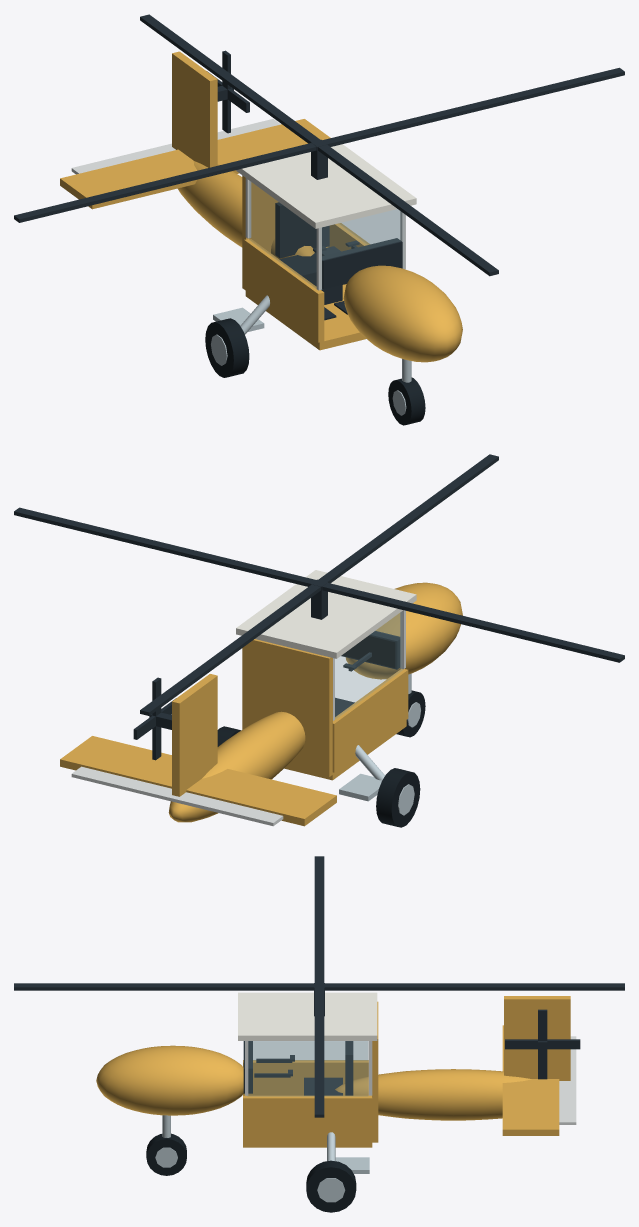
3 renders of one model, top to bottom at view 1: azimuth 30°, elevation 25°; view 2: azimuth 150°, elevation 25°; view 3: azimuth 270°, elevation 25°, orthographic. The views are drawn at different scales.
Visible parts, largest first — view 1: aircraft-blade (×2), aircraft-nose, aircraft-roof, aircraft-stabilizer, helicopter, aircraft-window (×2), aircraft-side (×2), aircraft-fin, aircraft-tail, aircraft-windshield, aircraft-panel, aircraft-bulkhead (+4 smaller); view 2: aircraft-blade (×3), aircraft-bulkhead, aircraft-stabilizer, aircraft-roof, helicopter, aircraft-tail, aircraft-fin, aircraft-nose, aircraft-side, aircraft-window, aircraft-elevator-hinge, aircraft-floor (+1 smaller); view 3: aircraft-blade (×4), aircraft-nose, aircraft-side (×2), aircraft-window (×2), aircraft-tail, aircraft-roof, helicopter, aircraft-fin, aircraft-stabilizer, aircraft-elevator-hinge, aircraft-floor, aircraft-bulkhead (+2 smaller).
Part boxes in pixels (left/top/right/bottom): aircraft-blade (×2): left=14, top=14, right=624, bottom=276; aircraft-nose: left=343, top=265, right=462, bottom=362; aircraft-roof: left=236, top=144, right=416, bottom=228; aircraft-stabilizer: left=60, top=119, right=330, bottom=209; helicopter: left=205, top=178, right=425, bottom=425; aircraft-window (×2): left=249, top=181, right=399, bottom=288; aircraft-side (×2): left=244, top=223, right=369, bottom=342; aircraft-fin: left=172, top=51, right=217, bottom=167; aircraft-tail: left=177, top=161, right=314, bottom=259; aircraft-windshield: left=321, top=209, right=403, bottom=289; aircraft-panel: left=322, top=238, right=402, bottom=289; aircraft-bulkhead: left=242, top=175, right=328, bottom=290; aircraft-blade (×3): left=14, top=454, right=624, bottom=760; aircraft-bulkhead: left=242, top=639, right=332, bottom=776; aircraft-stabilizer: left=60, top=736, right=336, bottom=826; aircraft-roof: left=236, top=570, right=416, bottom=658; helicopter: left=217, top=610, right=425, bottom=827; aircraft-tail: left=168, top=711, right=305, bottom=822; aircraft-fin: left=172, top=674, right=217, bottom=796; aircraft-nose: left=345, top=582, right=462, bottom=679; aircraft-side: left=332, top=668, right=408, bottom=772; aircraft-window: left=335, top=612, right=402, bottom=719; aircraft-elevator-hinge: left=71, top=766, right=283, bottom=826; aircraft-floor: left=284, top=720, right=406, bottom=780; aircraft-blade (×4): left=14, top=856, right=624, bottom=1117; aircraft-nose: left=96, top=1045, right=243, bottom=1115; aircraft-side (×2): left=243, top=1060, right=372, bottom=1140; aircraft-window (×2): left=247, top=1041, right=367, bottom=1096; aircraft-tail: left=335, top=1069, right=531, bottom=1120; aircraft-roof: left=238, top=992, right=377, bottom=1040; helicopter: left=146, top=1041, right=372, bottom=1212; aircraft-fin: left=504, top=996, right=570, bottom=1080; aircraft-stabilizer: left=502, top=1025, right=559, bottom=1135; aircraft-elevator-hinge: left=559, top=1036, right=576, bottom=1124; aircraft-floor: left=243, top=1141, right=372, bottom=1147; aircraft-bulkhead: left=372, top=1001, right=378, bottom=1142.
Size of the model in its own units: 7.8 by 2.64 by 7.8.
10 materials, 1 textured.
